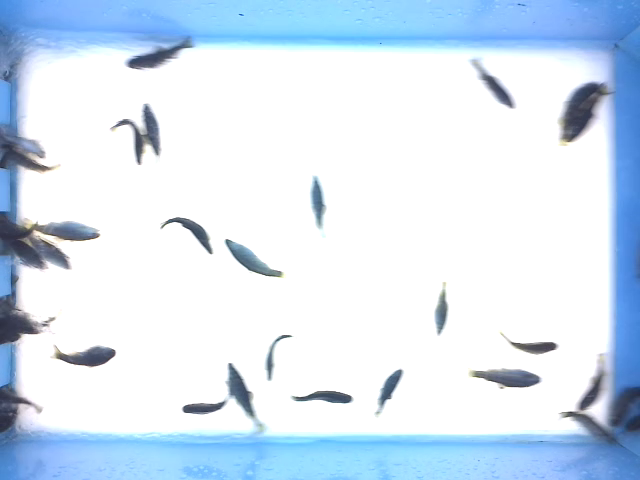fish: (556, 76, 616, 149), (223, 362, 268, 435), (466, 54, 519, 111), (221, 233, 285, 280), (16, 223, 72, 271), (121, 35, 195, 71), (558, 410, 620, 448), (574, 351, 611, 413), (158, 216, 214, 255), (20, 216, 100, 243), (465, 365, 544, 391), (47, 342, 117, 370), (108, 117, 147, 166), (373, 368, 404, 421), (499, 331, 560, 356), (141, 101, 165, 161), (307, 173, 328, 241), (265, 334, 294, 383), (289, 386, 354, 406), (180, 397, 233, 416), (433, 280, 450, 339)
